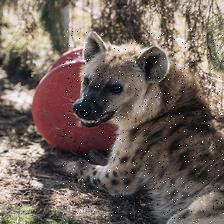hyena: (63, 29, 224, 224)
